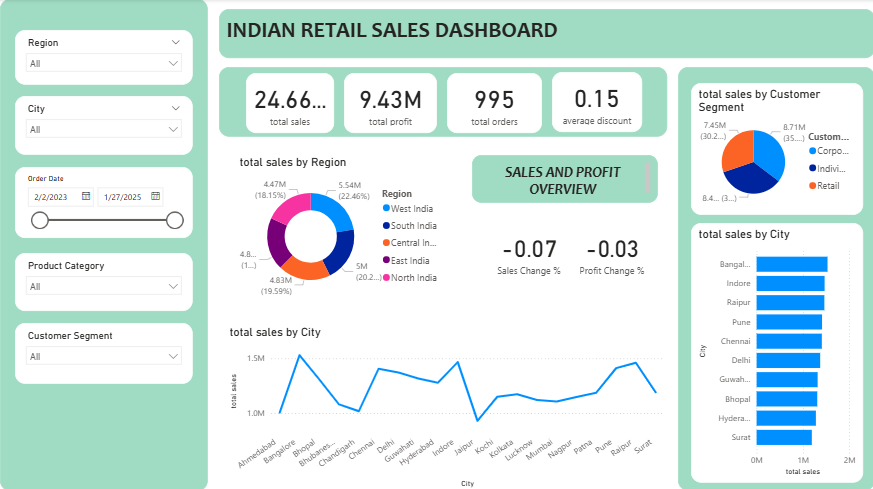

Layout of this report page (visuals, bound fields, positions):
{"tool":"powerbi","page":{"name":"Page 1","canvas":[1280,720],"ordinal":0},"visuals":[{"type":"textbox","box":[992.2,99.5,288.3,620.5],"z":0},{"type":"textbox","box":[320.5,99.5,655.6,102.4],"z":1000},{"type":"textbox","box":[0,0,304.4,720],"z":2000},{"type":"card","fields":{"Values":["indian_retailsales_data.total sales"]},"box":[360,108.3,128.8,87.8],"z":3000},{"type":"card","fields":{"Values":["indian_retailsales_data.total profit"]},"box":[503.4,108.3,136.1,87.8],"z":4000},{"type":"card","fields":{"Values":["indian_retailsales_data.total orders"]},"box":[654.1,108.3,139,87.8],"z":5000},{"type":"card","fields":{"Values":["indian_retailsales_data.average discount"]},"box":[807.8,106.8,131.7,87.8],"z":6000},{"type":"donutChart","fields":{"Category":["indian_retailsales_data.Region"],"Y":["indian_retailsales_data.total sales"]},"box":[345.4,228.3,308.8,219.5],"z":7000},{"type":"pieChart","fields":{"Category":["indian_retailsales_data.Customer Segment"],"Y":["indian_retailsales_data.total sales"]},"box":[1011.2,122.9,251.7,193.2],"z":8000},{"type":"clusteredBarChart","fields":{"Category":["indian_retailsales_data.City"],"Y":["indian_retailsales_data.total sales"]},"box":[1011.2,327.8,251.7,380.5],"z":9000},{"type":"slicer","fields":{"Values":["indian_retailsales_data.Region"]},"box":[22,45.4,260.5,80.5],"z":10000},{"type":"slicer","fields":{"Values":["indian_retailsales_data.Order Date"]},"box":[22,245.9,260.5,103.9],"z":11000},{"type":"slicer","fields":{"Values":["indian_retailsales_data.City"]},"box":[22,142,260.5,86.3],"z":12000},{"type":"slicer","fields":{"Values":["indian_retailsales_data.Product Category"]},"box":[22,371.7,260.5,84.9],"z":13000},{"type":"slicer","fields":{"Values":["indian_retailsales_data.Customer Segment"]},"box":[22,474.1,260.5,89.3],"z":14000},{"type":"lineChart","fields":{"Y":["indian_retailsales_data.total sales"],"Category":["indian_retailsales_data.City"]},"box":[330.7,477.1,645.4,242.9],"z":15000},{"type":"card","fields":{"Values":["indian_retailsales_data.Sales Change %"]},"box":[721.5,327.8,105.4,86.3],"z":16000},{"type":"card","fields":{"Values":["indian_retailsales_data.Profit Change %"]},"box":[840,327.8,111.2,86.3],"z":17000},{"type":"textbox","box":[690.7,228.3,272.2,70.2],"z":18000},{"type":"textbox","box":[320.5,14.6,960,71.7],"z":18001}]}

Visuals, with their boxes in screenshot pixels (x1, y1, x2, y2), scaled from the page's 1280x720 canvas onto the 873x489 screenshot:
textbox: select_region(677, 68, 872, 488)
textbox: select_region(219, 68, 666, 137)
textbox: select_region(0, 0, 208, 488)
card - indian_retailsales_data.total sales: select_region(246, 74, 333, 133)
card - indian_retailsales_data.total profit: select_region(343, 74, 436, 133)
card - indian_retailsales_data.total orders: select_region(446, 74, 541, 133)
card - indian_retailsales_data.average discount: select_region(551, 73, 641, 132)
donutChart - indian_retailsales_data.Region x indian_retailsales_data.total sales: select_region(236, 155, 446, 304)
pieChart - indian_retailsales_data.Customer Segment x indian_retailsales_data.total sales: select_region(690, 83, 861, 215)
clusteredBarChart - indian_retailsales_data.City x indian_retailsales_data.total sales: select_region(690, 223, 861, 481)
slicer - indian_retailsales_data.Region: select_region(15, 31, 193, 86)
slicer - indian_retailsales_data.Order Date: select_region(15, 167, 193, 238)
slicer - indian_retailsales_data.City: select_region(15, 96, 193, 155)
slicer - indian_retailsales_data.Product Category: select_region(15, 252, 193, 310)
slicer - indian_retailsales_data.Customer Segment: select_region(15, 322, 193, 383)
lineChart - indian_retailsales_data.total sales x indian_retailsales_data.City: select_region(226, 324, 666, 488)
card - indian_retailsales_data.Sales Change %: select_region(492, 223, 564, 281)
card - indian_retailsales_data.Profit Change %: select_region(573, 223, 649, 281)
textbox: select_region(471, 155, 657, 203)
textbox: select_region(219, 10, 872, 59)
